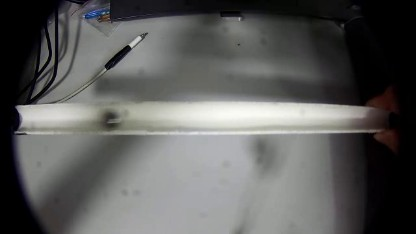gangzhu: (103, 107, 122, 127)
